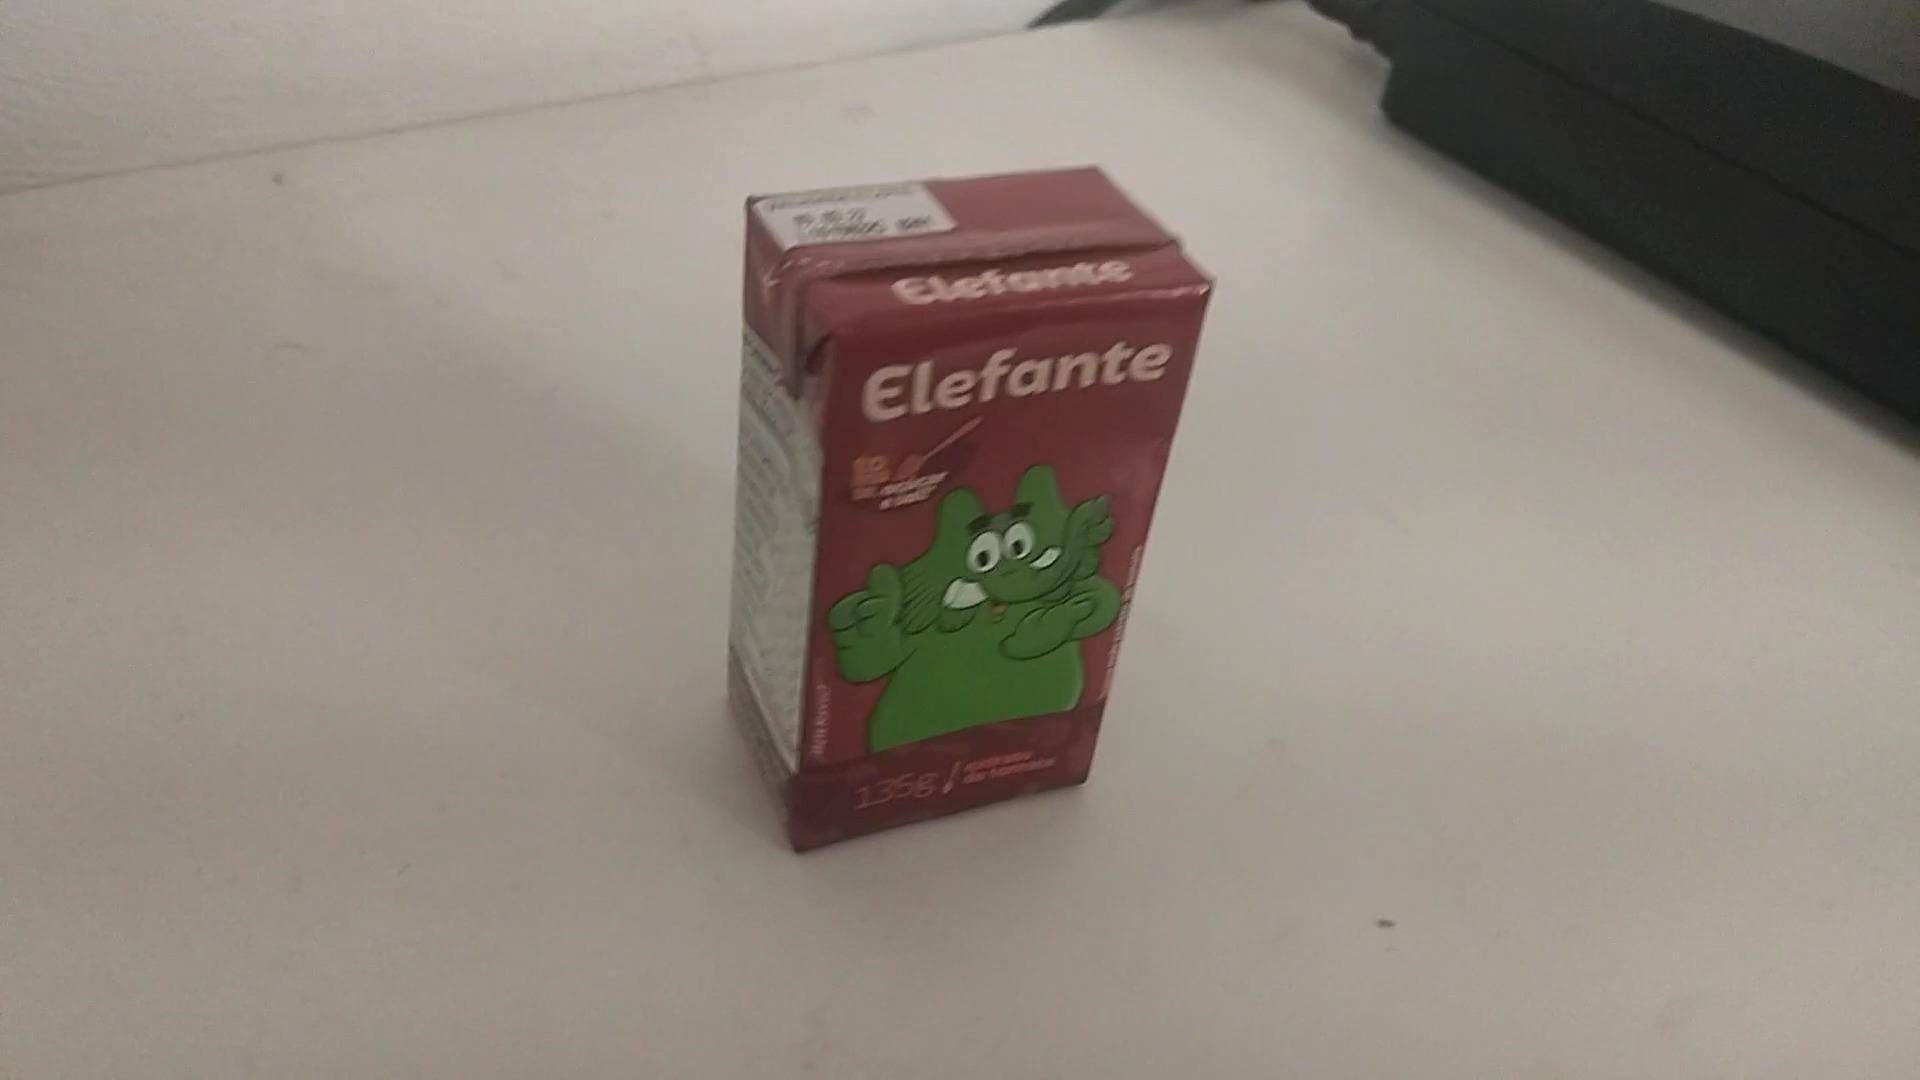tomate: (754, 196, 1205, 816)
